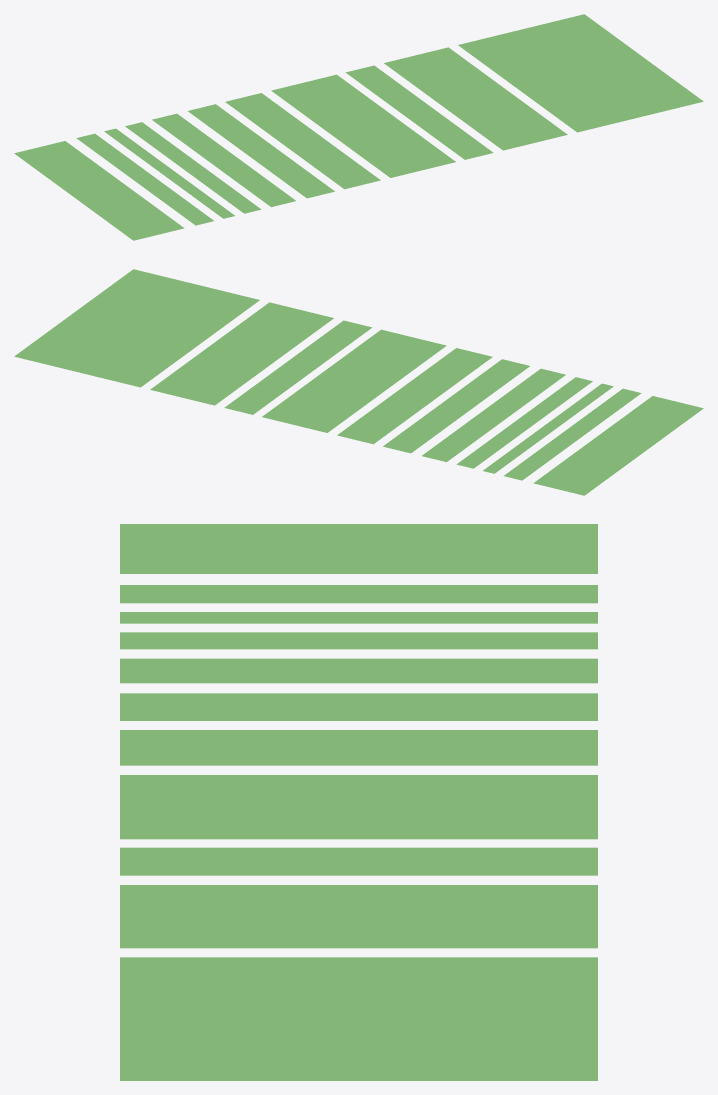
File: Suelo_2.fbx
3 views of the same model, one above another, from view 1: azimuth 30°, elevation 25°; view 2: azimuth 150°, elevation 25°; view 3: azimuth 270°, elevation 25° (orthographic). The views are drawn at different scales.
Visible parts, largest first — view 1: Ground__2_; view 2: Ground__2_; view 3: Ground__2_.
Part boxes in pixels (<box>): Ground__2_: <box>14,14,703,240</box>; Ground__2_: <box>14,269,703,495</box>; Ground__2_: <box>120,524,597,1080</box>.
Size of the model in its own units: 191 by 1.95e-05 by 69.24.
